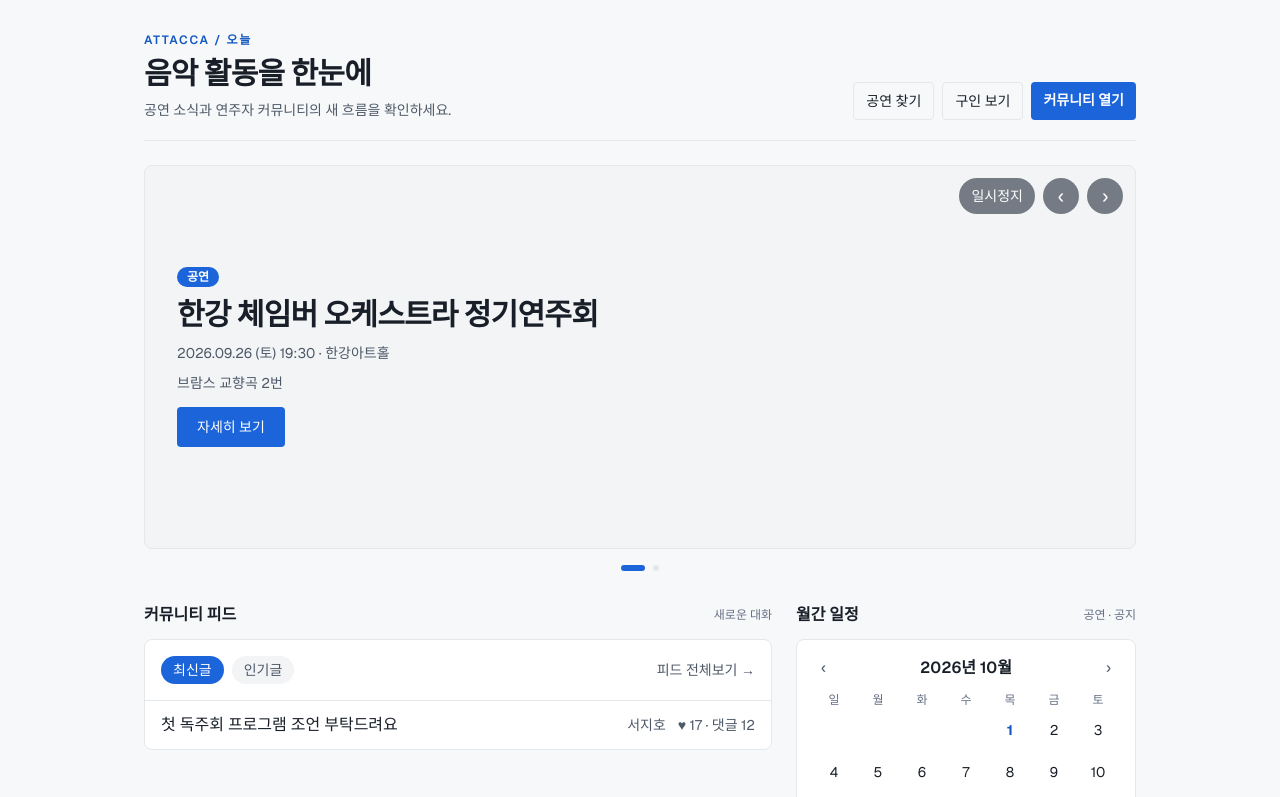
Test case: 홈 › 히어로 슬라이드를 좌우로 넘길 수 있다
Expected: the heading "한강 체임버 오케스트라 정기연주회" is shown, [177,297,598,333]
Click the button named "다음 소식" at coordinates (1105, 196), box [1087,178,1123,214]
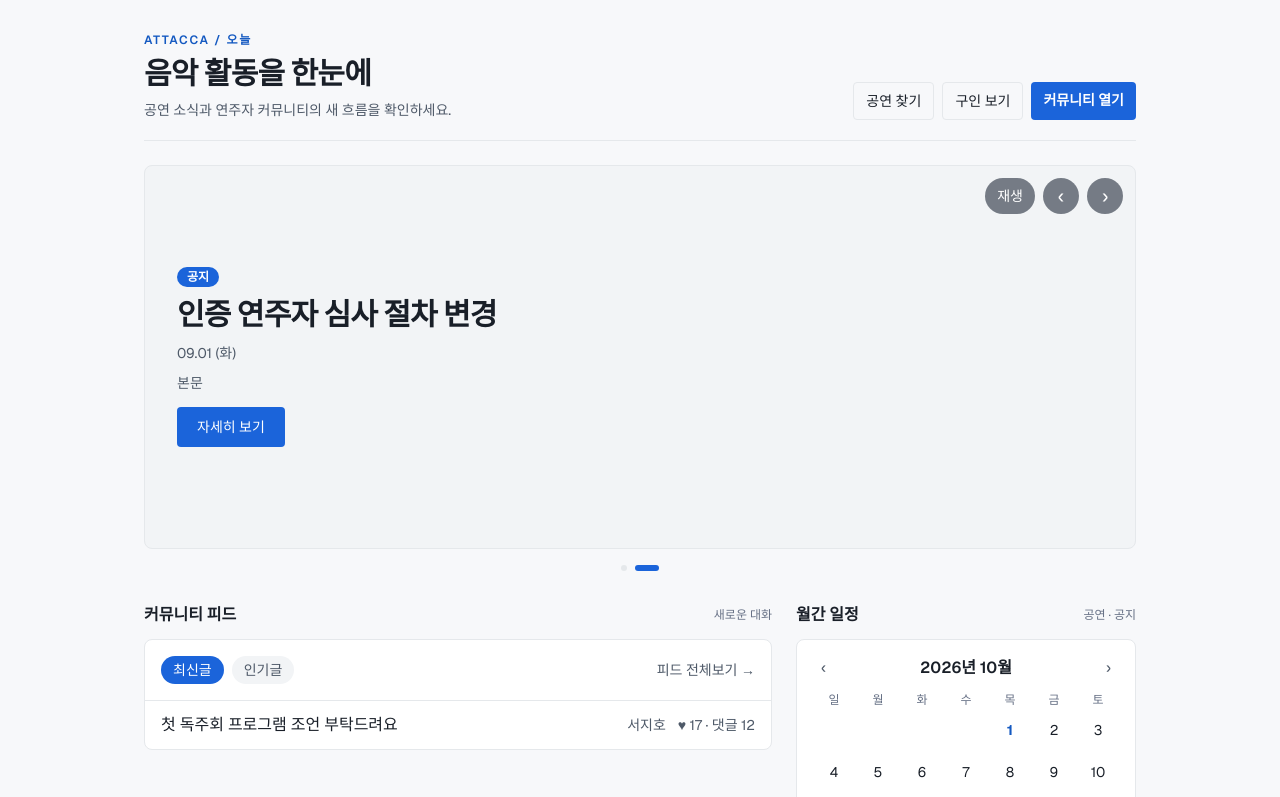
Expected: the heading "인증 연주자 심사 절차 변경" is shown, [177,297,497,333]
